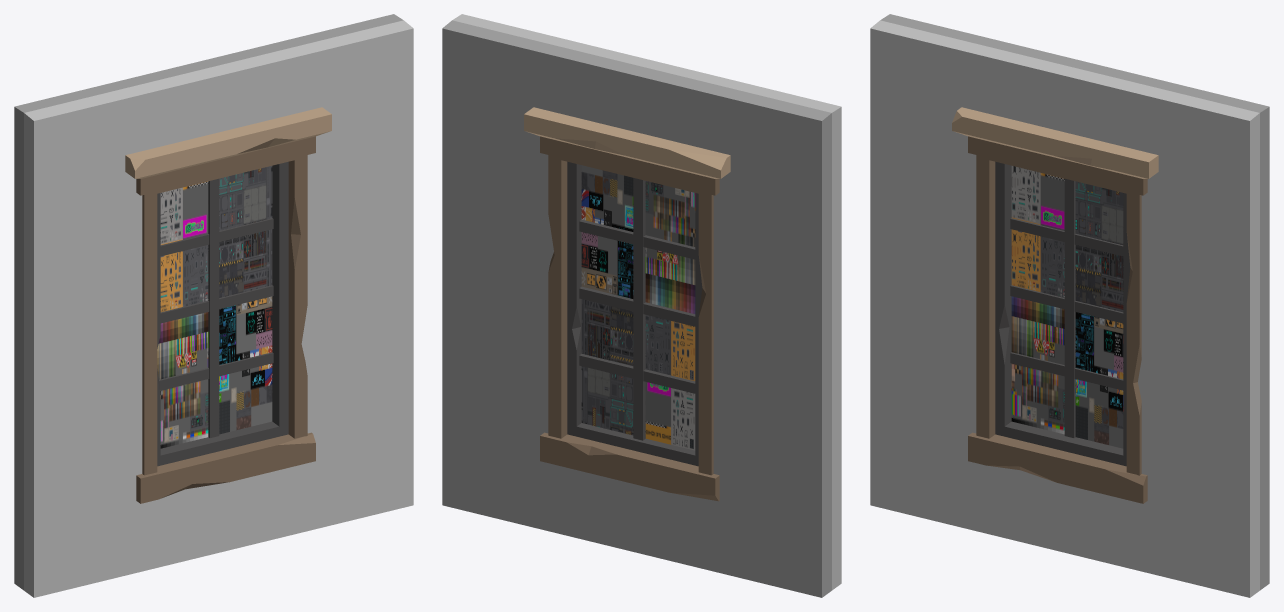
The model's file is SM_Bld_Wall_Window_Old_Single_01.fbx.
3 renders of one model, left to right at view 1: azimuth 30°, elevation 25°; view 2: azimuth 150°, elevation 25°; view 3: azimuth 330°, elevation 25°, orthographic.
Visible parts, largest first — view 1: SM_Bld_Wall_Window_Old_Single_01, SM_Bld_Wall_Window_Old_Single_01_Glass; view 2: SM_Bld_Wall_Window_Old_Single_01, SM_Bld_Wall_Window_Old_Single_01_Glass; view 3: SM_Bld_Wall_Window_Old_Single_01, SM_Bld_Wall_Window_Old_Single_01_Glass.
Boxes of the visible parts, bbox=[...] form: SM_Bld_Wall_Window_Old_Single_01: bbox=[14, 14, 413, 597]; SM_Bld_Wall_Window_Old_Single_01_Glass: bbox=[157, 166, 272, 448]; SM_Bld_Wall_Window_Old_Single_01: bbox=[442, 14, 841, 597]; SM_Bld_Wall_Window_Old_Single_01_Glass: bbox=[581, 165, 695, 450]; SM_Bld_Wall_Window_Old_Single_01: bbox=[870, 14, 1269, 597]; SM_Bld_Wall_Window_Old_Single_01_Glass: bbox=[1011, 166, 1123, 448].
Size of the model in its own units: 250 by 301 by 44.57.
